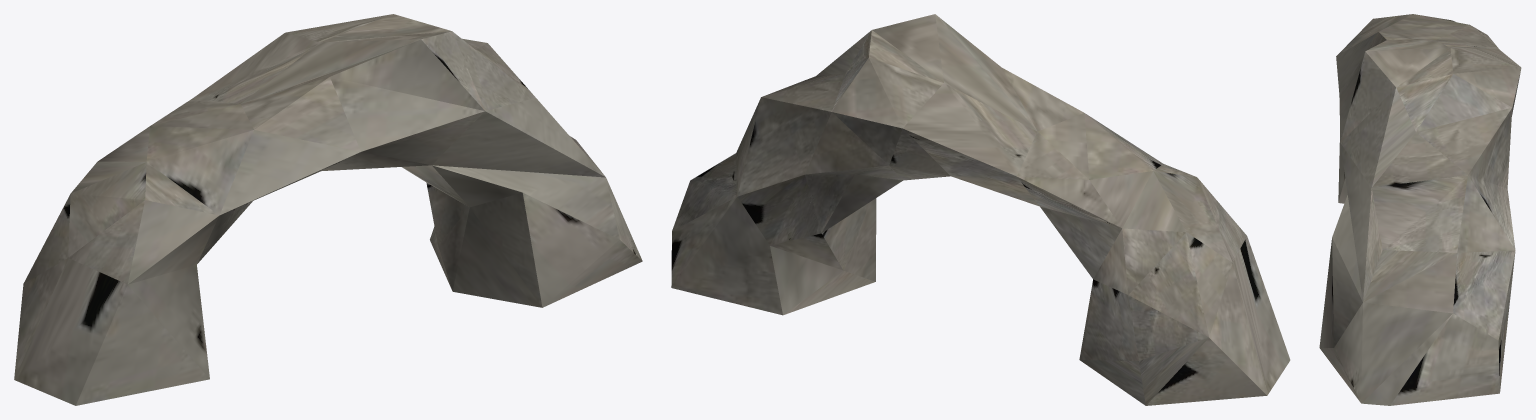
The model's file is co_sedimentary_arch_lod2.glb.
3 renders of one model, left to right at view 1: azimuth 30°, elevation 25°; view 2: azimuth 150°, elevation 25°; view 3: azimuth 270°, elevation 25°, orthographic. The views are drawn at different scales.
Parts seen in each view (by area): view 1: output_unwrapped; view 2: output_unwrapped; view 3: output_unwrapped.
Boxes of the visible parts, x1,y1,x2,y2 form: output_unwrapped: (14, 14, 642, 405); output_unwrapped: (671, 14, 1290, 405); output_unwrapped: (1319, 14, 1521, 405).
Bounding box in the file's own units: 1.85 × 0.8123 × 0.5865.
Materials: 1 (1 with a texture image).
